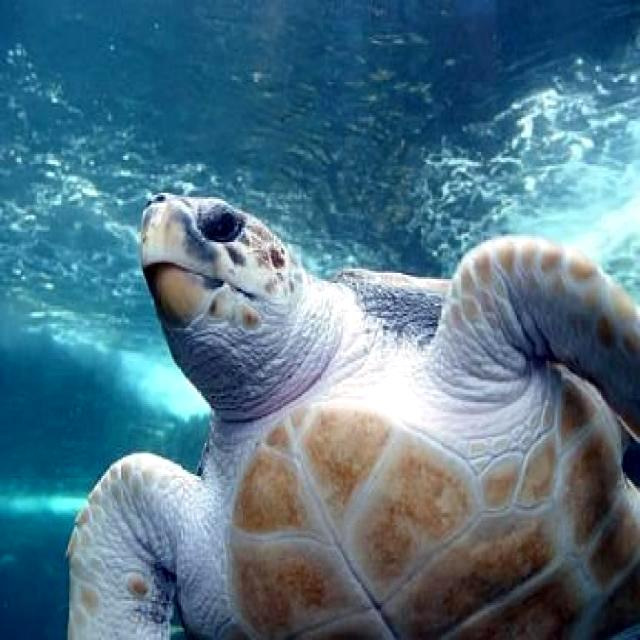Sea turtle: (61, 177, 640, 639)
